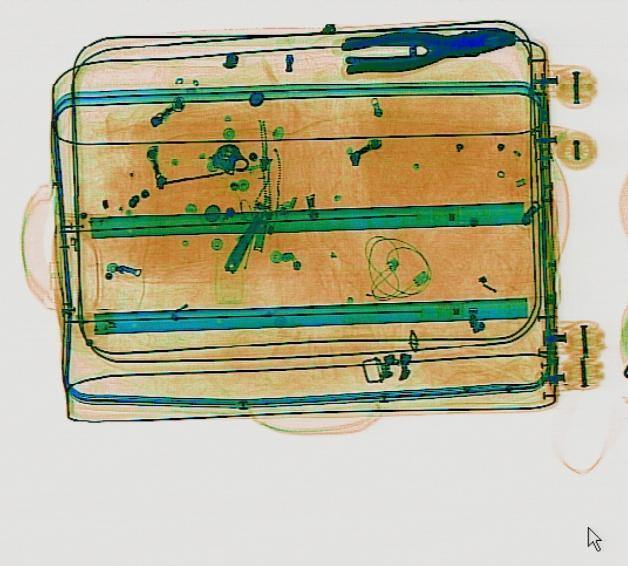Pliers: (338, 17, 520, 75)
